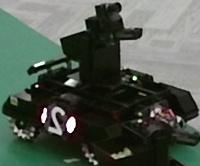armor_2: (41, 108, 76, 133)
